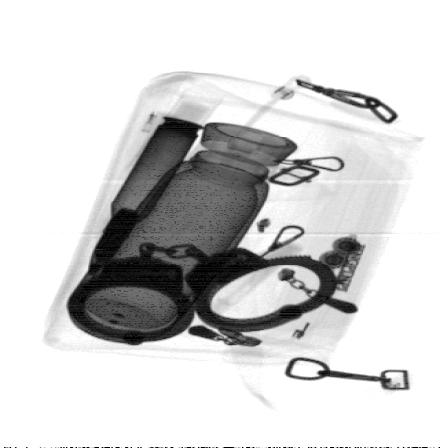Bullet: (85, 111, 207, 278)
HandCuffs: (66, 241, 339, 346)
